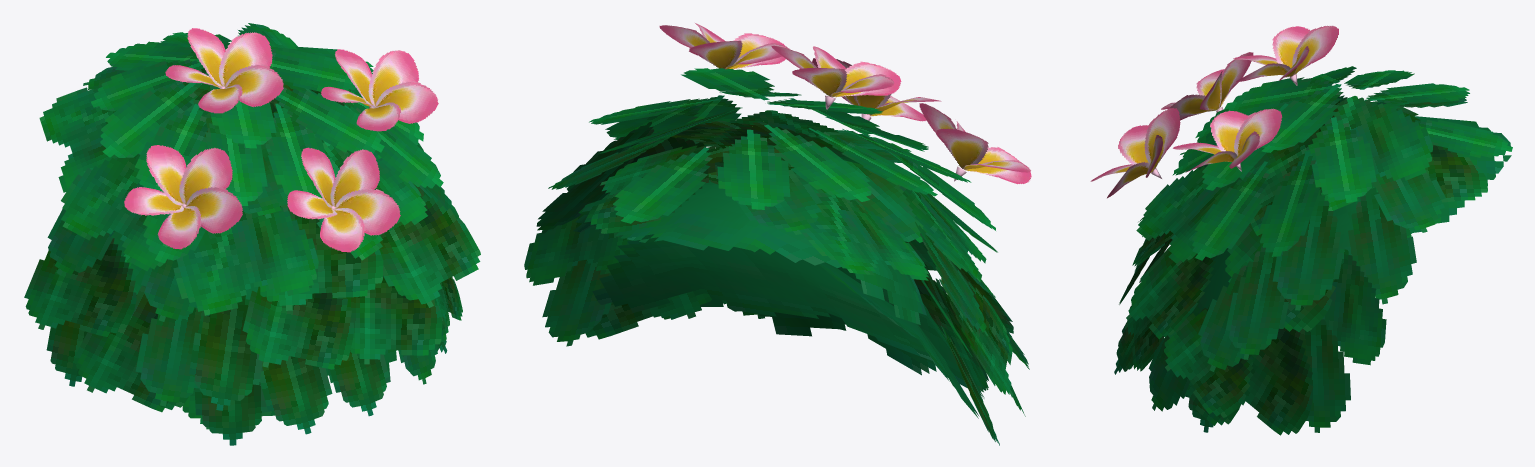
File: pink-plumeria.glb
3 renders of one model, left to right at view 1: azimuth 30°, elevation 25°; view 2: azimuth 150°, elevation 25°; view 3: azimuth 270°, elevation 25°, orthographic. The views are drawn at different scales.
Bounding box in the file's own units: 10.61 × 8.92 × 10.43.
Materials: 2 (2 with a texture image).
